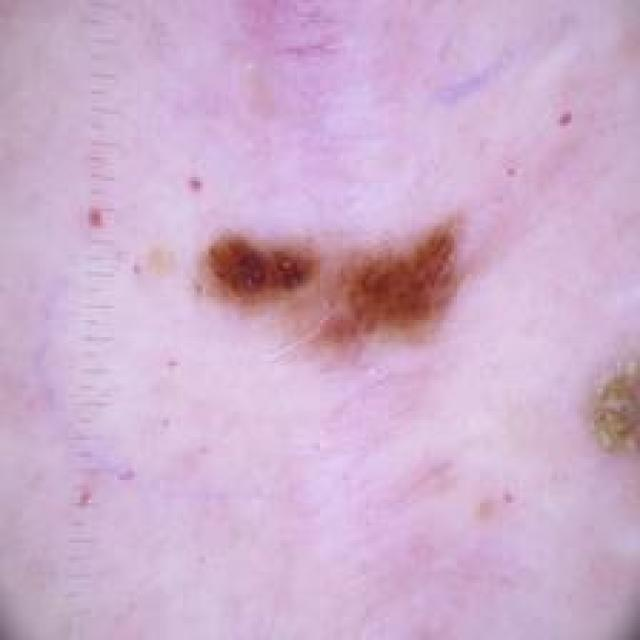Cancer: (168, 208, 490, 366)
